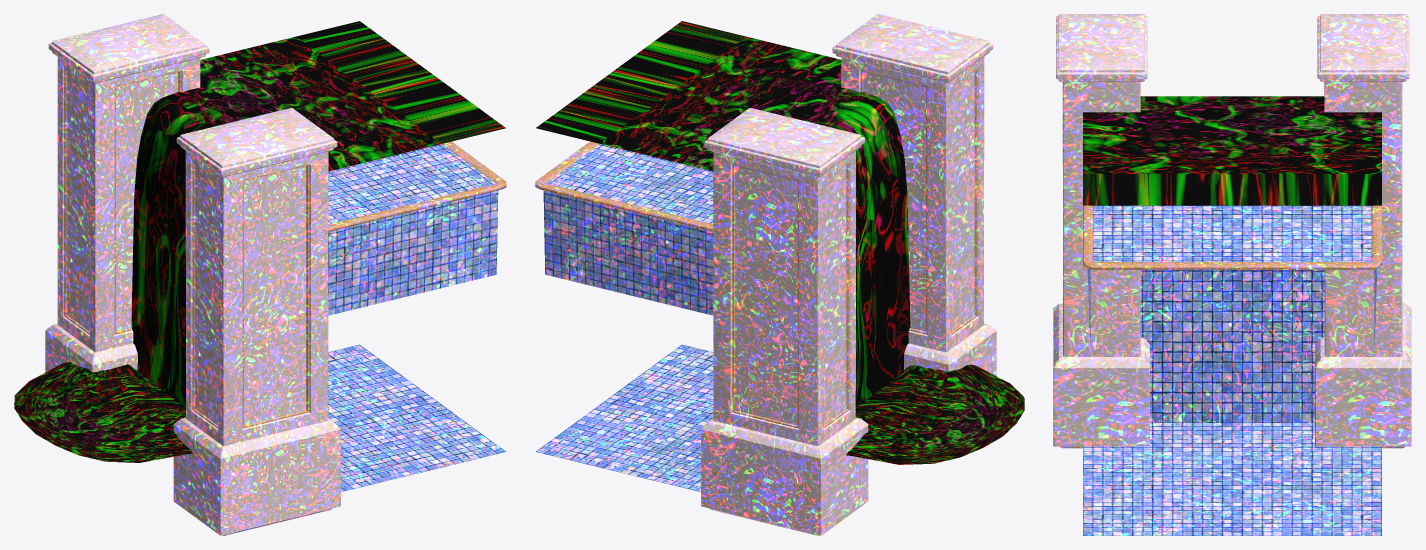
File: waterfall_SM.fbx
3 views of the same model, side by side, from view 1: azimuth 30°, elevation 25°; view 2: azimuth 150°, elevation 25°; view 3: azimuth 270°, elevation 25° (orthographic). The views are drawn at different scales.
Visible parts, largest first — view 1: waterfall_SM_LOD0; view 2: waterfall_SM_LOD0; view 3: waterfall_SM_LOD0.
Boxes of the visible parts, left/top/right/bottom form: waterfall_SM_LOD0: left=14, top=14, right=506, bottom=535; waterfall_SM_LOD0: left=535, top=14, right=1024, bottom=535; waterfall_SM_LOD0: left=1053, top=14, right=1411, bottom=535.
Bounding box in the file's own units: 1617 × 1228 × 1444.
7 materials, 7 textured.
